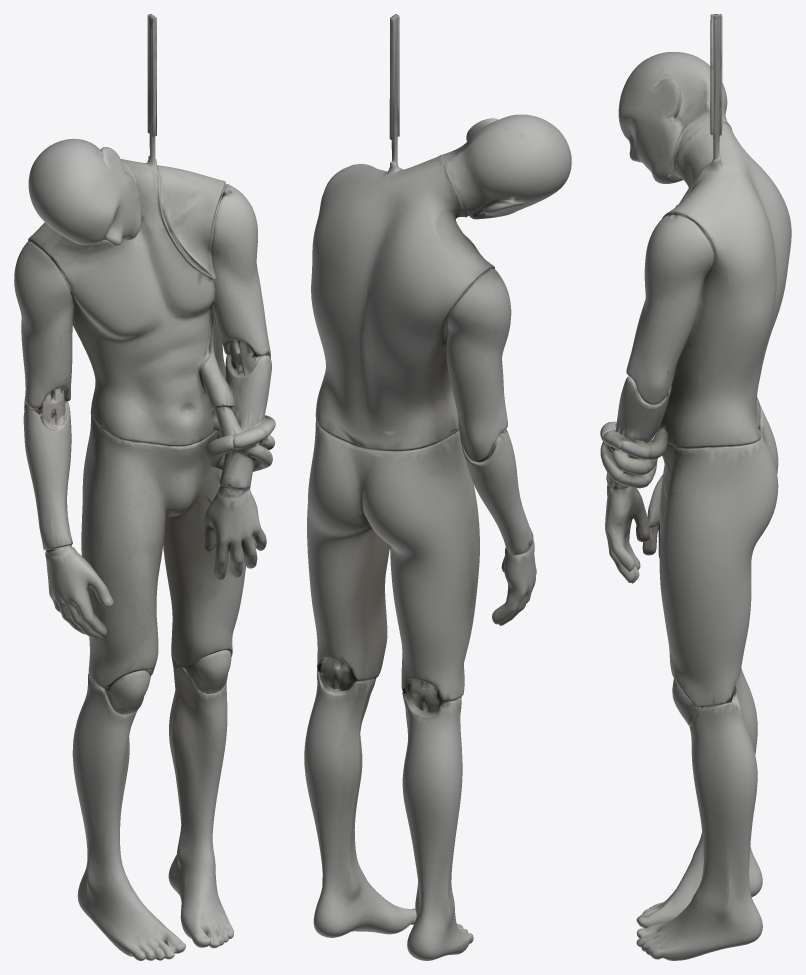
3 views of the same model, side by side, from view 1: azimuth 30°, elevation 25°; view 2: azimuth 150°, elevation 25°; view 3: azimuth 270°, elevation 25° (orthographic). The views are drawn at different scales.
Visible parts, largest first — view 1: node_0; view 2: node_0; view 3: node_0.
Part boxes in pixels (x1,y1,x2,y2): node_0: (14,14,275,960); node_0: (304,14,571,960); node_0: (600,14,791,960).
Size of the model in its own units: 0.3045 by 1.18 by 0.2223.
Materials: 1 (1 with a texture image).
